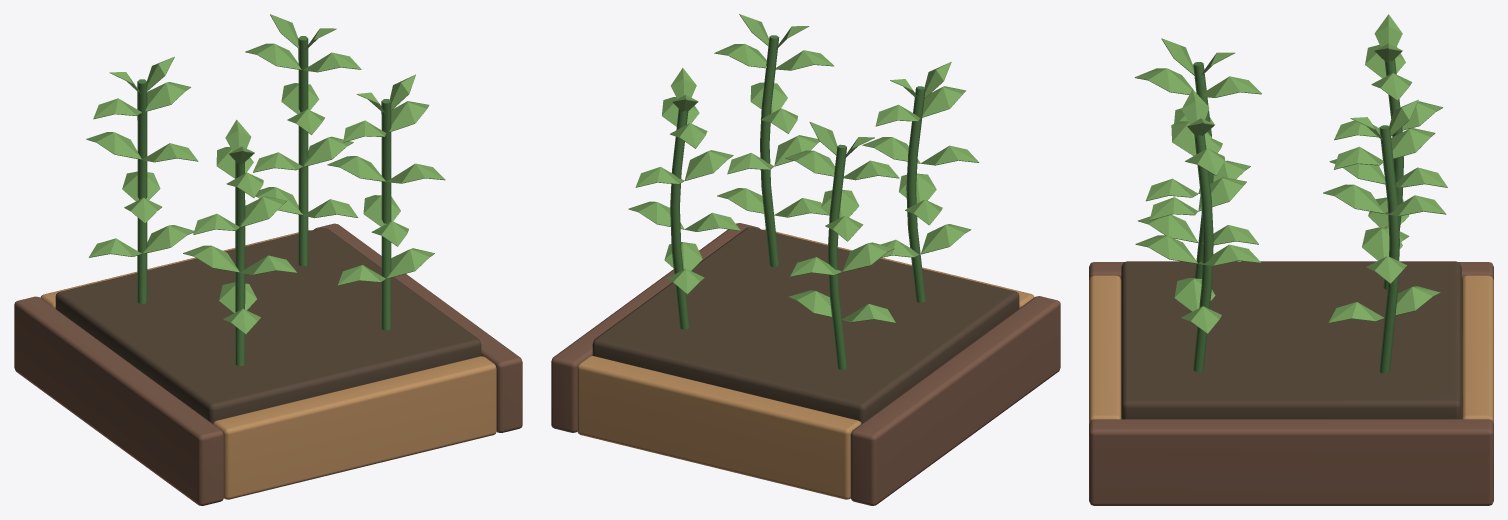
File: garden.herb.mint-wet.glb
3 views of the same model, side by side, from view 1: azimuth 30°, elevation 25°; view 2: azimuth 150°, elevation 25°; view 3: azimuth 270°, elevation 25° (orthographic). The views are drawn at different scales.
Parts seen in each view (by area): view 1: Cedar raised bed rail; view 2: Cedar raised bed rail; view 3: Cedar raised bed rail.
Boxes of the visible parts, x1,y1,x2,y2 form: Cedar raised bed rail: [14, 14, 522, 505]; Cedar raised bed rail: [551, 14, 1060, 505]; Cedar raised bed rail: [1089, 14, 1493, 505].
Bounding box in the file's own units: 1 × 0.9698 × 1.
